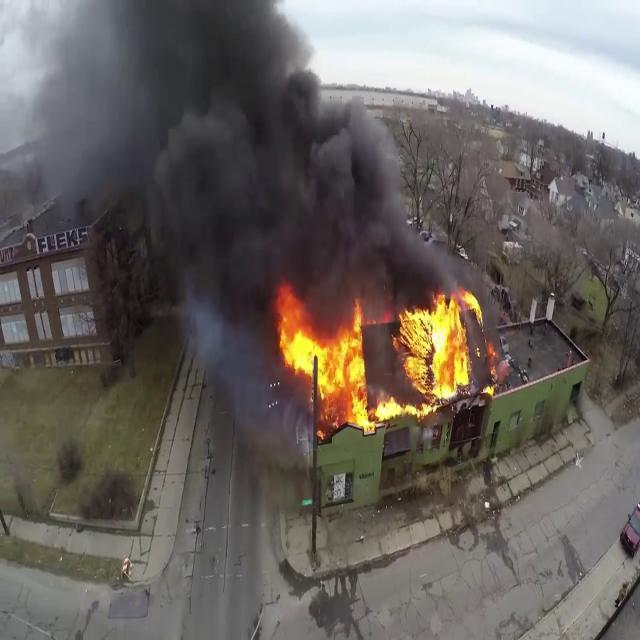Fire: (276, 287, 488, 428)
Smoke: (8, 0, 436, 334)
